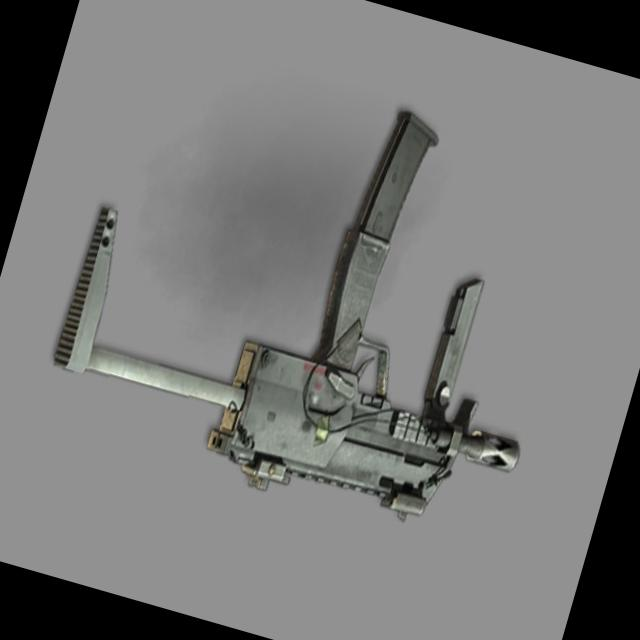Weapon: (31, 32, 612, 554)
